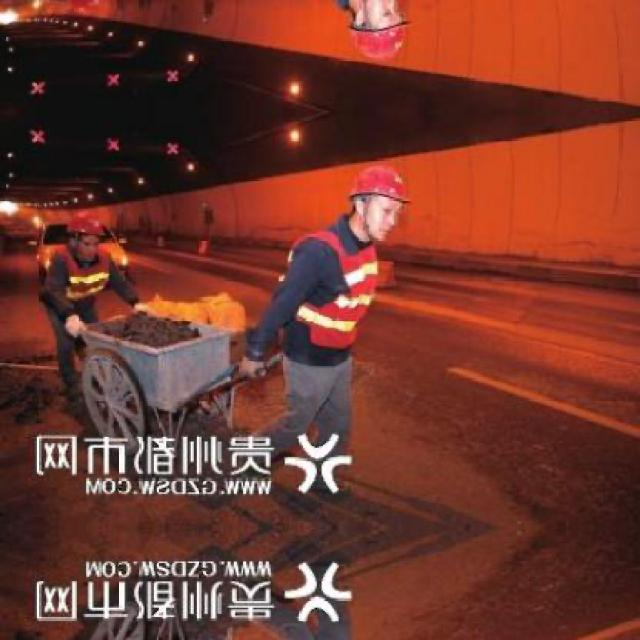2: (220, 168, 423, 483), (45, 209, 129, 417), (219, 570, 423, 638)
helmet: (343, 158, 415, 242), (343, 0, 417, 65), (64, 204, 108, 262), (64, 0, 108, 18)
